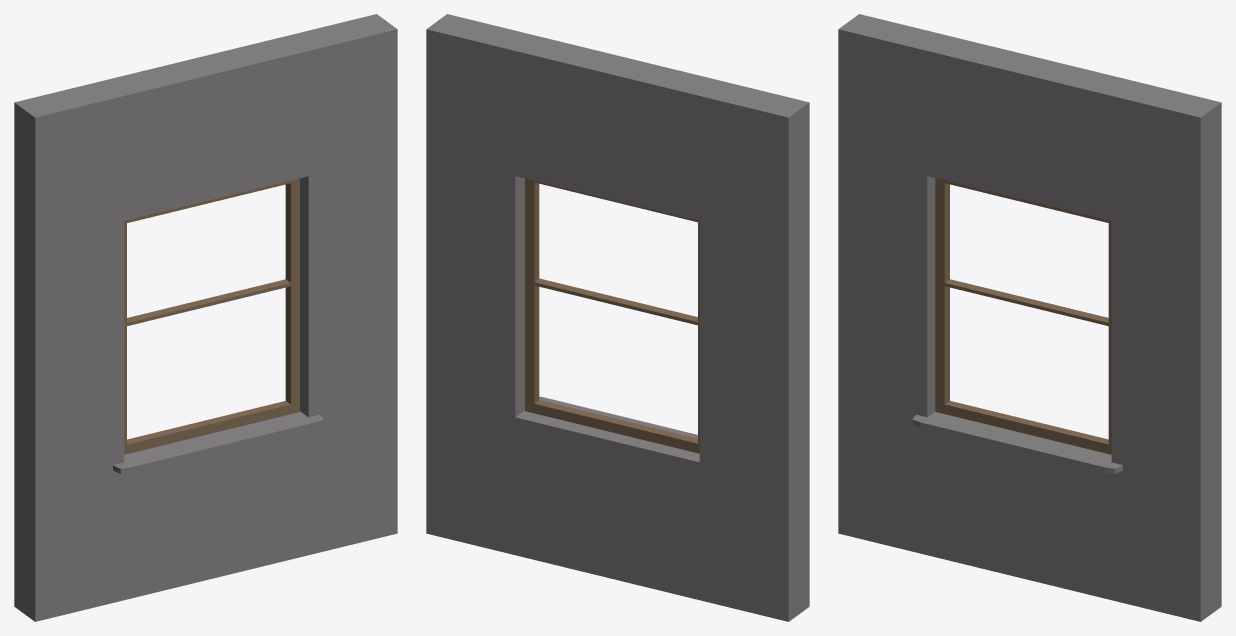
File: SM_window.glb
3 renders of one model, left to right at view 1: azimuth 30°, elevation 25°; view 2: azimuth 150°, elevation 25°; view 3: azimuth 330°, elevation 25°, orthographic.
Visible parts, largest first — view 1: SM_window; view 2: SM_window; view 3: SM_window.
Part boxes in pixels (box(x1,y1,x2,y2)): SM_window: box(14, 14, 397, 621); SM_window: box(426, 14, 809, 621); SM_window: box(838, 14, 1221, 621).
Size of the model in its own units: 2 by 2.66 by 0.2647.
